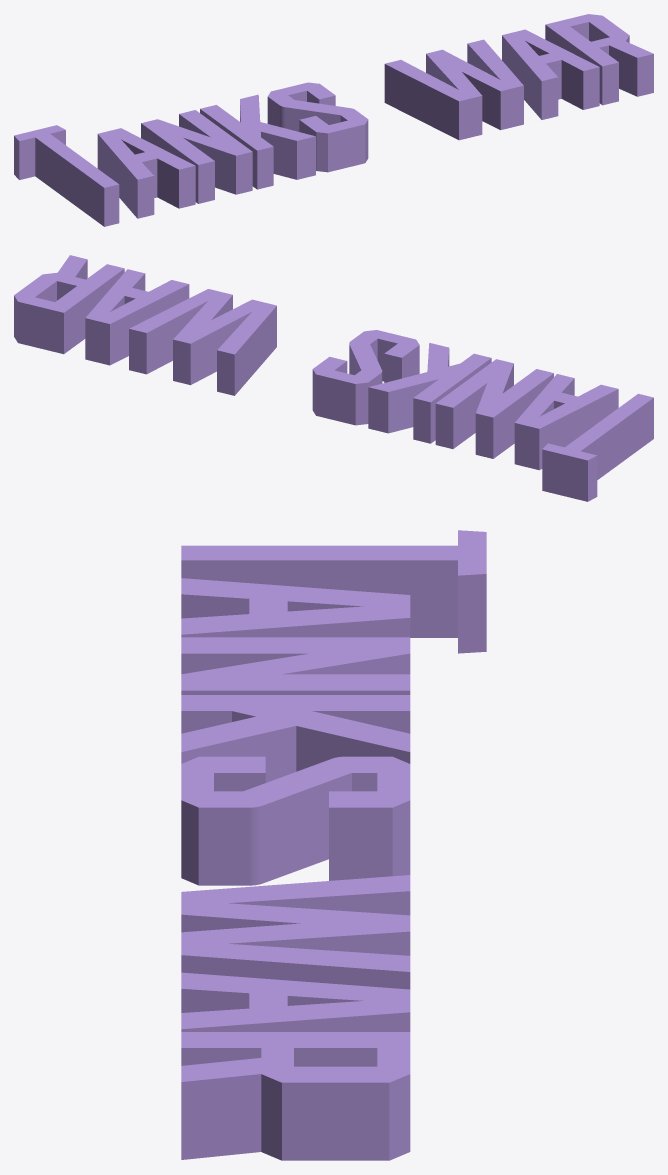
Rendered from title.obj.
3 renders of one model, top to bottom at view 1: azimuth 30°, elevation 25°; view 2: azimuth 150°, elevation 25°; view 3: azimuth 270°, elevation 25°, orthographic. The views are drawn at different scales.
Visible parts, largest first — view 1: Text001; view 2: Text001; view 3: Text001.
Boxes of the visible parts, x1,y1,x2,y2 form: Text001: (14, 14, 653, 226); Text001: (14, 255, 653, 501); Text001: (181, 530, 486, 1160).
Bounding box in the file's own units: 182 × 12 × 42.58.
